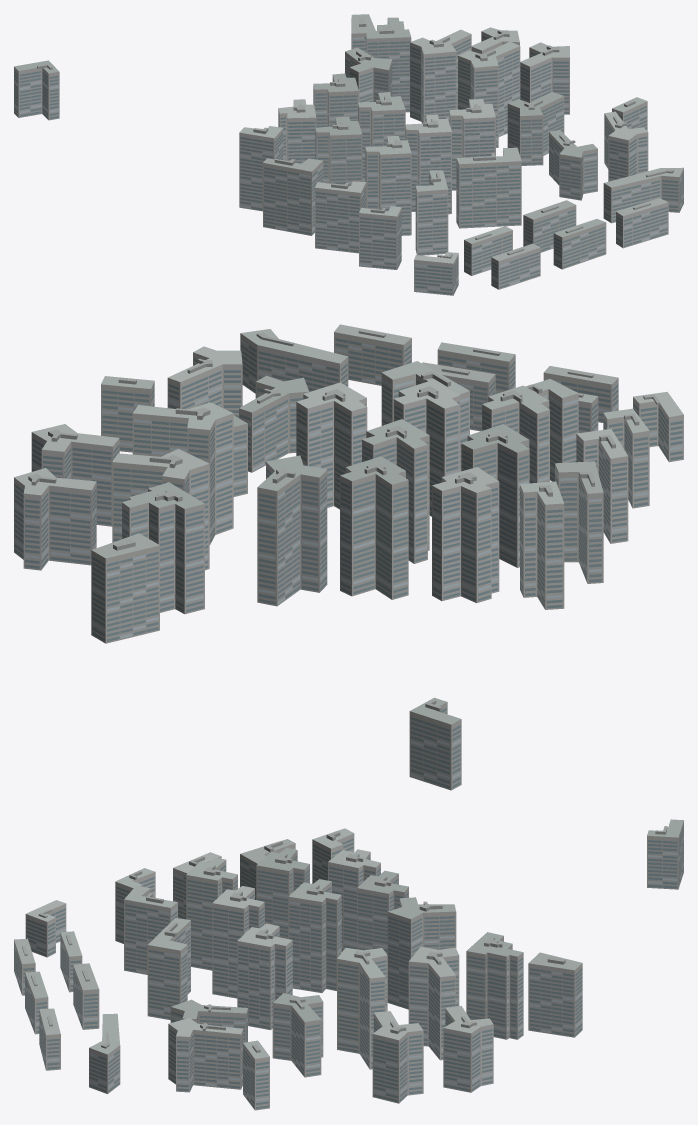
Rendered from apt-a10024831.glb.
3 views of the same model, one above another, from view 1: azimuth 30°, elevation 25°; view 2: azimuth 150°, elevation 25°; view 3: azimuth 270°, elevation 25° (orthographic). The views are drawn at different scales.
Visible parts, largest first — view 1: apt-a10024831; view 2: apt-a10024831; view 3: apt-a10024831.
Boxes of the visible parts, box(x1,y1,x2,y2) form: apt-a10024831: box(14, 14, 683, 295); apt-a10024831: box(14, 324, 683, 790); apt-a10024831: box(14, 819, 683, 1110).
Bounding box in the file's own units: 395 × 72.55 × 467.
